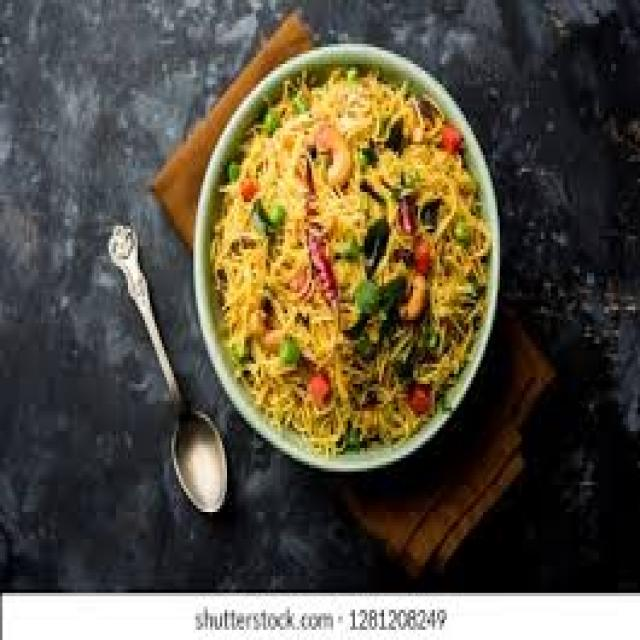POHA: (208, 64, 485, 448)
